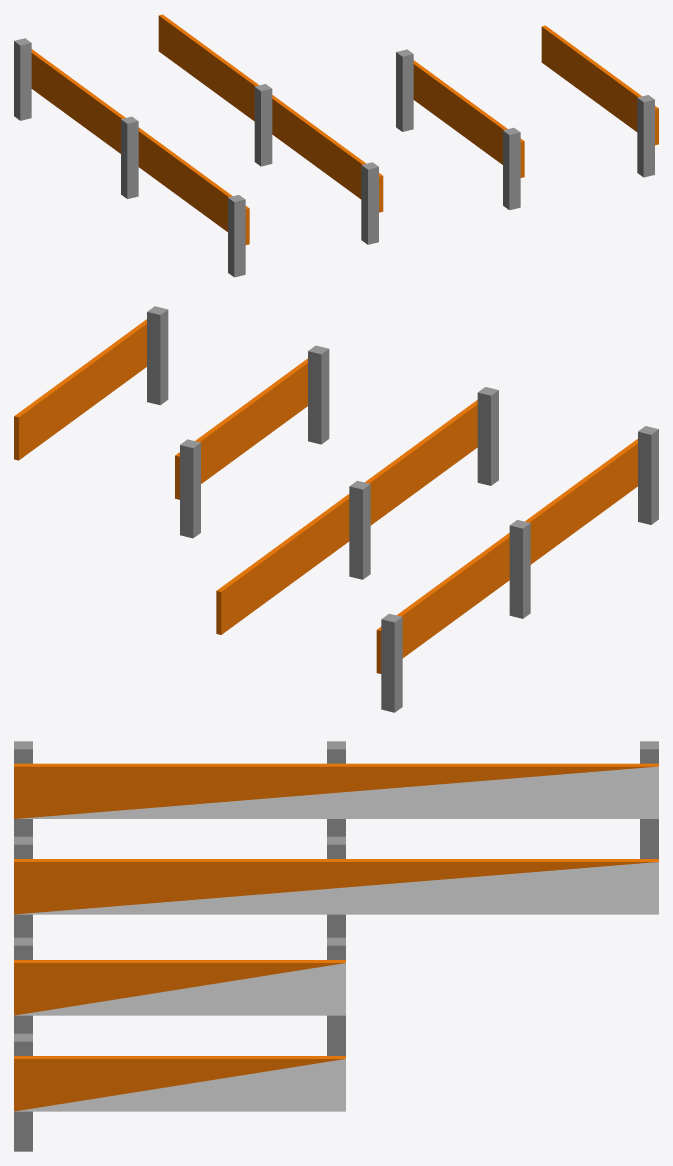
File: RoadFenceA.fbx
The picture shows the model from 3 angles, top to bottom: view 1: azimuth 30°, elevation 25°; view 2: azimuth 150°, elevation 25°; view 3: azimuth 270°, elevation 25°; orthographic projection. The views are drawn at different scales.
Parts seen in each view (by area): view 1: RoadFenceA, RoadFenceA_A, RoadFenceA_B, RoadFenceA_C; view 2: RoadFenceA, RoadFenceA_A, RoadFenceA_B, RoadFenceA_C; view 3: RoadFenceA, RoadFenceA_A, RoadFenceA_B, RoadFenceA_C.
Part boxes in pixels (left/top/right/bottom): RoadFenceA: left=14, top=38, right=249, bottom=277; RoadFenceA_A: left=158, top=14, right=383, bottom=244; RoadFenceA_B: left=396, top=49, right=524, bottom=210; RoadFenceA_C: left=541, top=25, right=658, bottom=177; RoadFenceA: left=376, top=426, right=658, bottom=712; RoadFenceA_A: left=216, top=387, right=498, bottom=634; RoadFenceA_B: left=175, top=345, right=329, bottom=538; RoadFenceA_C: left=14, top=306, right=168, bottom=460; RoadFenceA: left=14, top=741, right=658, bottom=858; RoadFenceA_A: left=14, top=836, right=658, bottom=937; RoadFenceA_B: left=14, top=937, right=345, bottom=1055; RoadFenceA_C: left=14, top=1033, right=345, bottom=1151.
Size of the model in its own units: 413 by 69.9 by 371.
